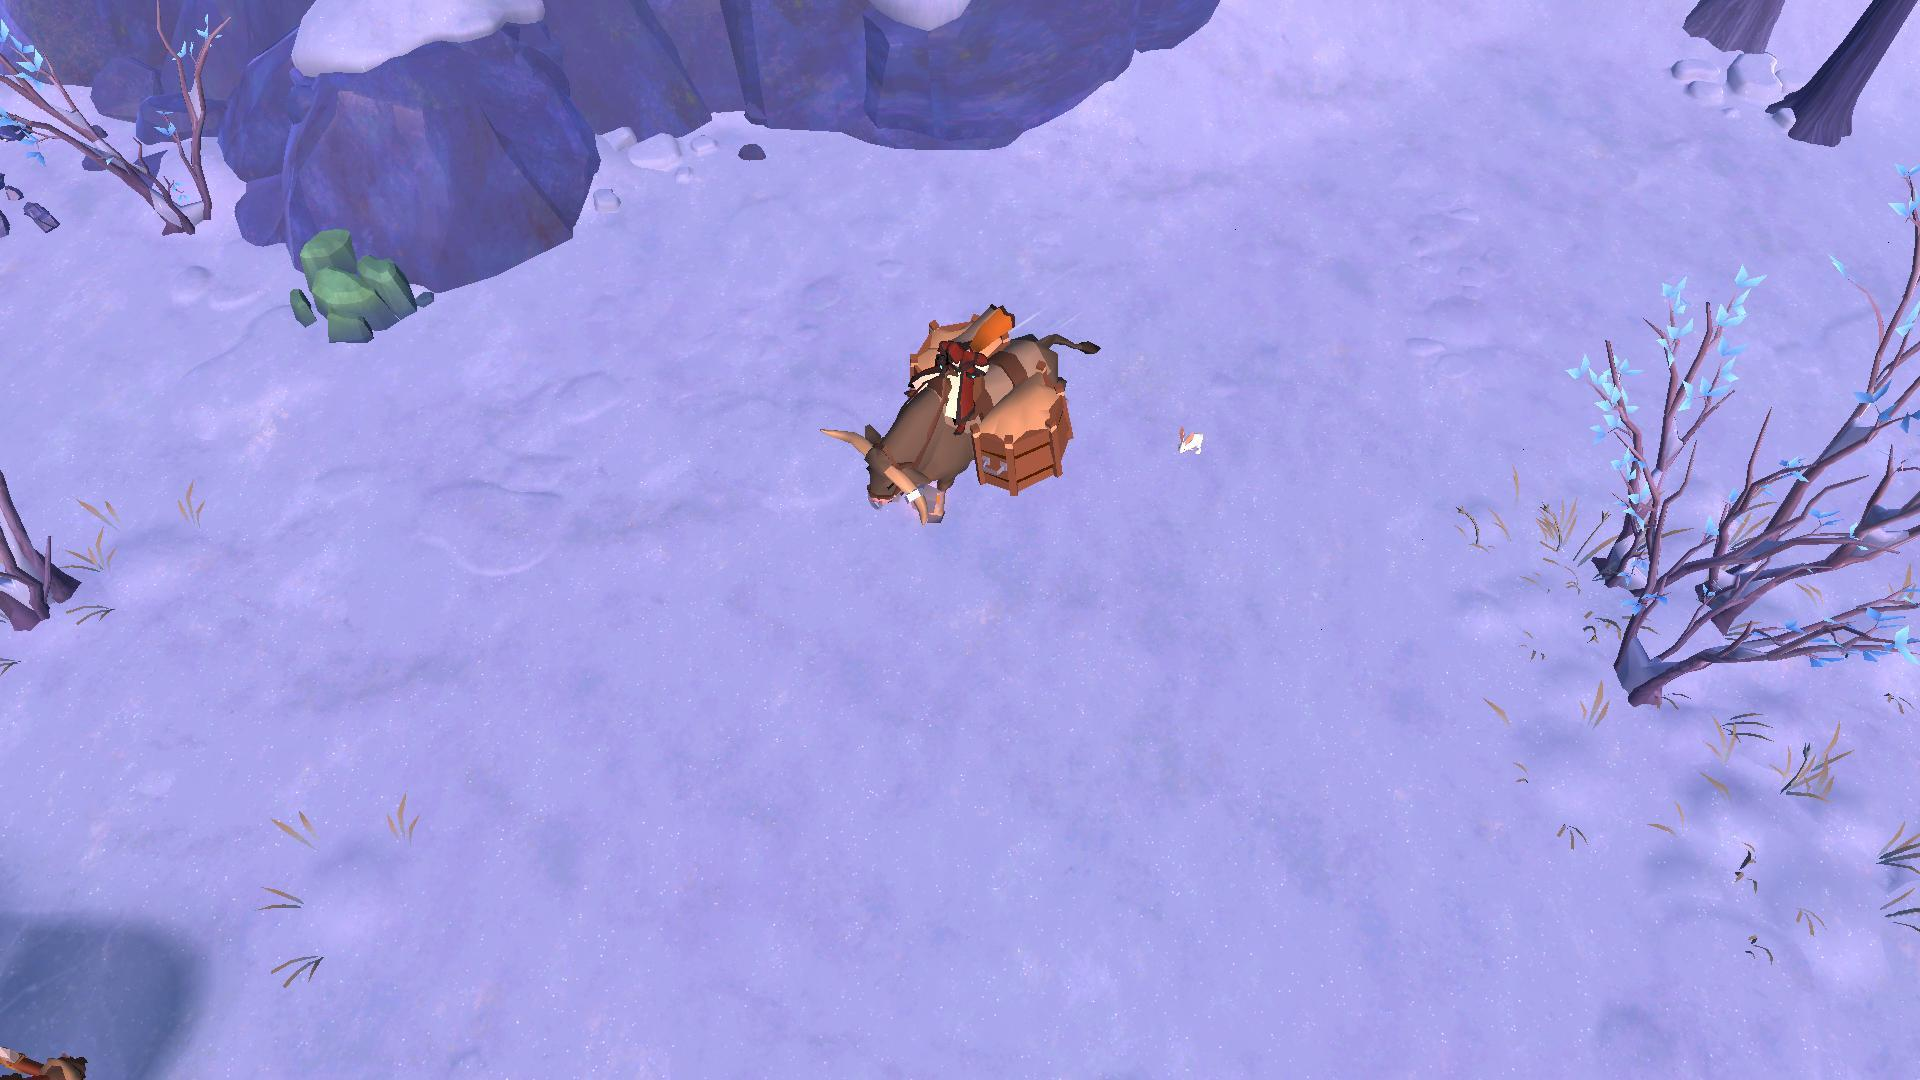rock_t3: (278, 224, 442, 348)
